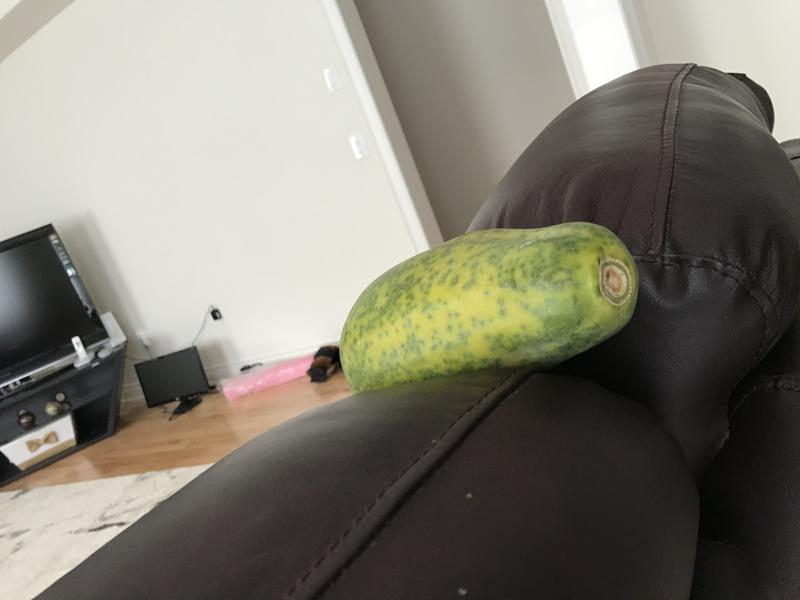papaya: (329, 215, 647, 398)
